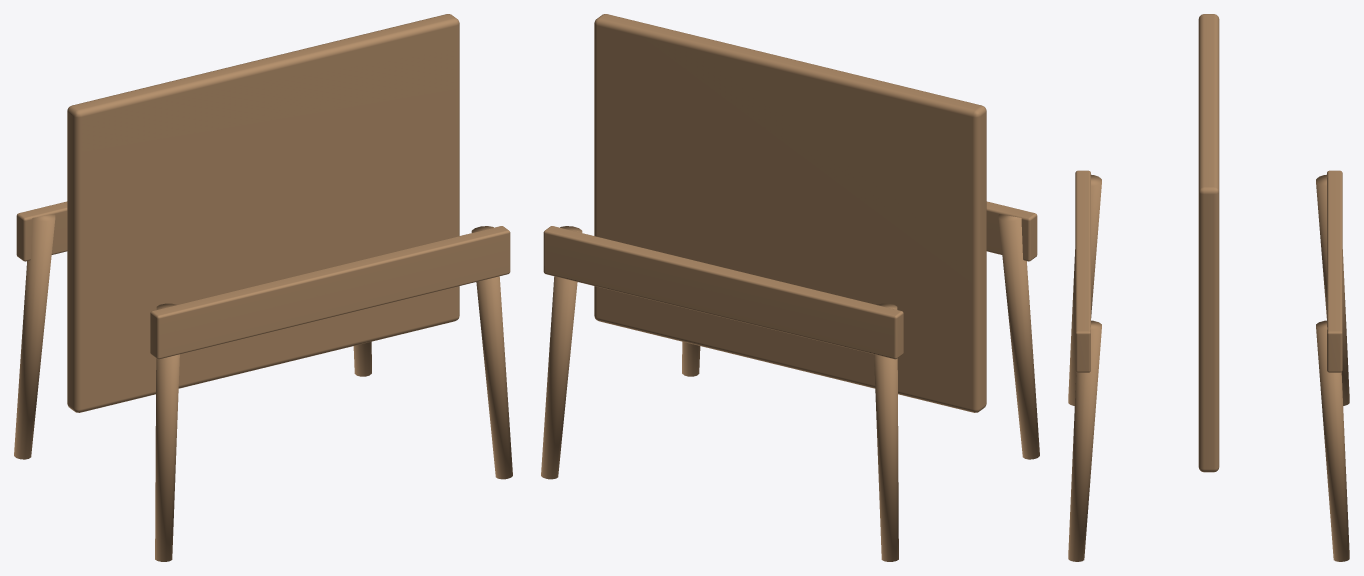
Rendered from atelier-crafting-table.glb.
3 views of the same model, side by side, from view 1: azimuth 30°, elevation 25°; view 2: azimuth 150°, elevation 25°; view 3: azimuth 270°, elevation 25° (orthographic). The views are drawn at different scales.
Visible parts, largest first — view 1: legs.231; view 2: legs.231; view 3: legs.231.
Part boxes in pixels (x1,y1,x2,y2): legs.231: (14, 14, 512, 561); legs.231: (541, 14, 1039, 561); legs.231: (1068, 14, 1349, 561).
Size of the model in its own units: 1.2 by 1.2 by 0.8063.
